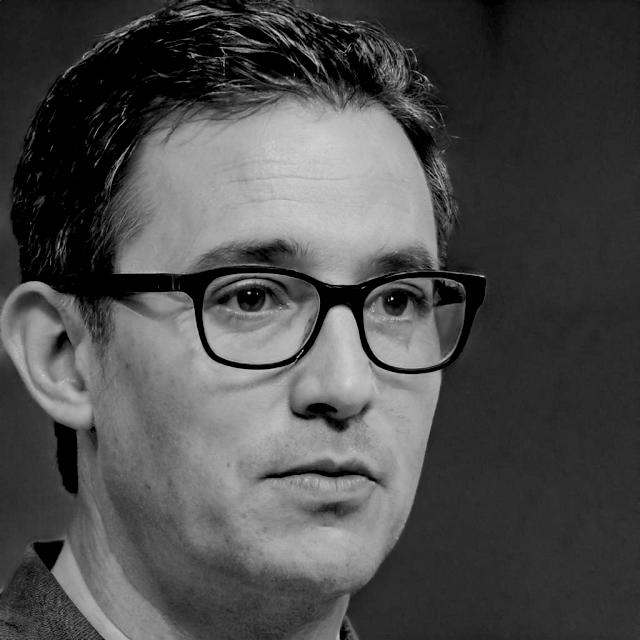lens: (201, 273, 320, 364), (362, 275, 468, 369)
